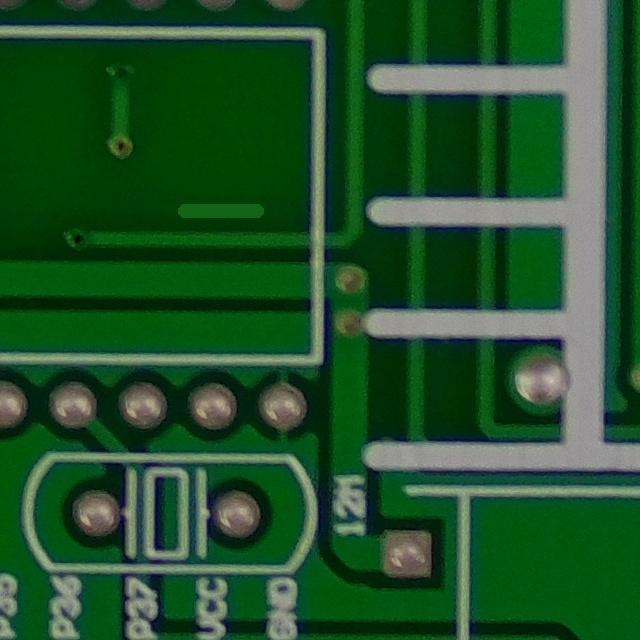spurious_copper: (158, 186, 287, 236)
